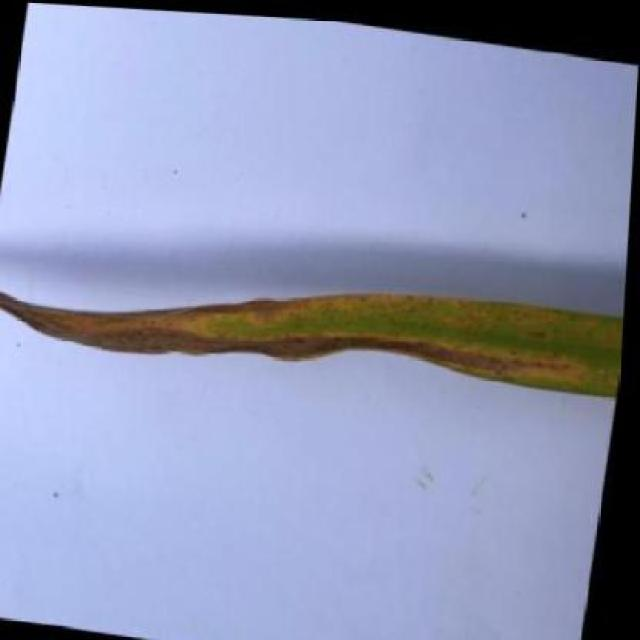Rice False Smut: (0, 222, 631, 420)
